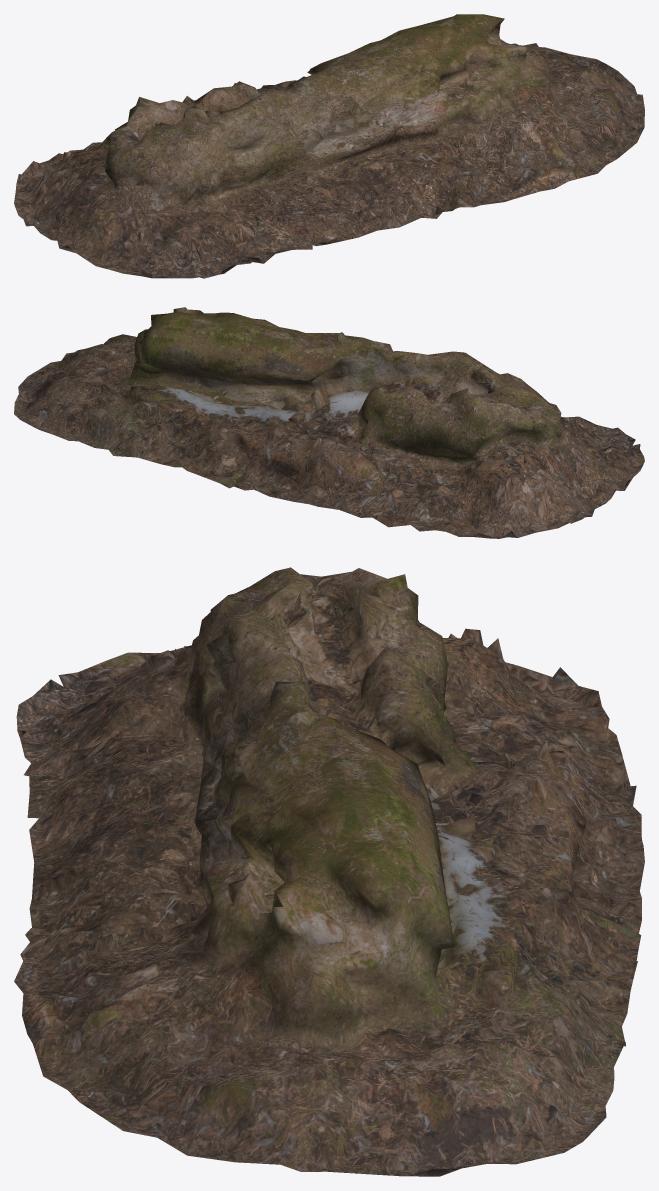
The model's file is PX_Fallen_Trunk_03_LOD3.fbx.
3 views of the same model, one above another, from view 1: azimuth 30°, elevation 25°; view 2: azimuth 150°, elevation 25°; view 3: azimuth 270°, elevation 25° (orthographic). The views are drawn at different scales.
Visible parts, largest first — view 1: PX_Fallen_Trunk_03_LOD3; view 2: PX_Fallen_Trunk_03_LOD3; view 3: PX_Fallen_Trunk_03_LOD3.
Part boxes in pixels (x1,y1,x2,y2): PX_Fallen_Trunk_03_LOD3: (14,14,644,278); PX_Fallen_Trunk_03_LOD3: (14,307,644,538); PX_Fallen_Trunk_03_LOD3: (14,567,644,1176).
Bounding box in the file's own units: 178 × 32.36 × 87.74.
